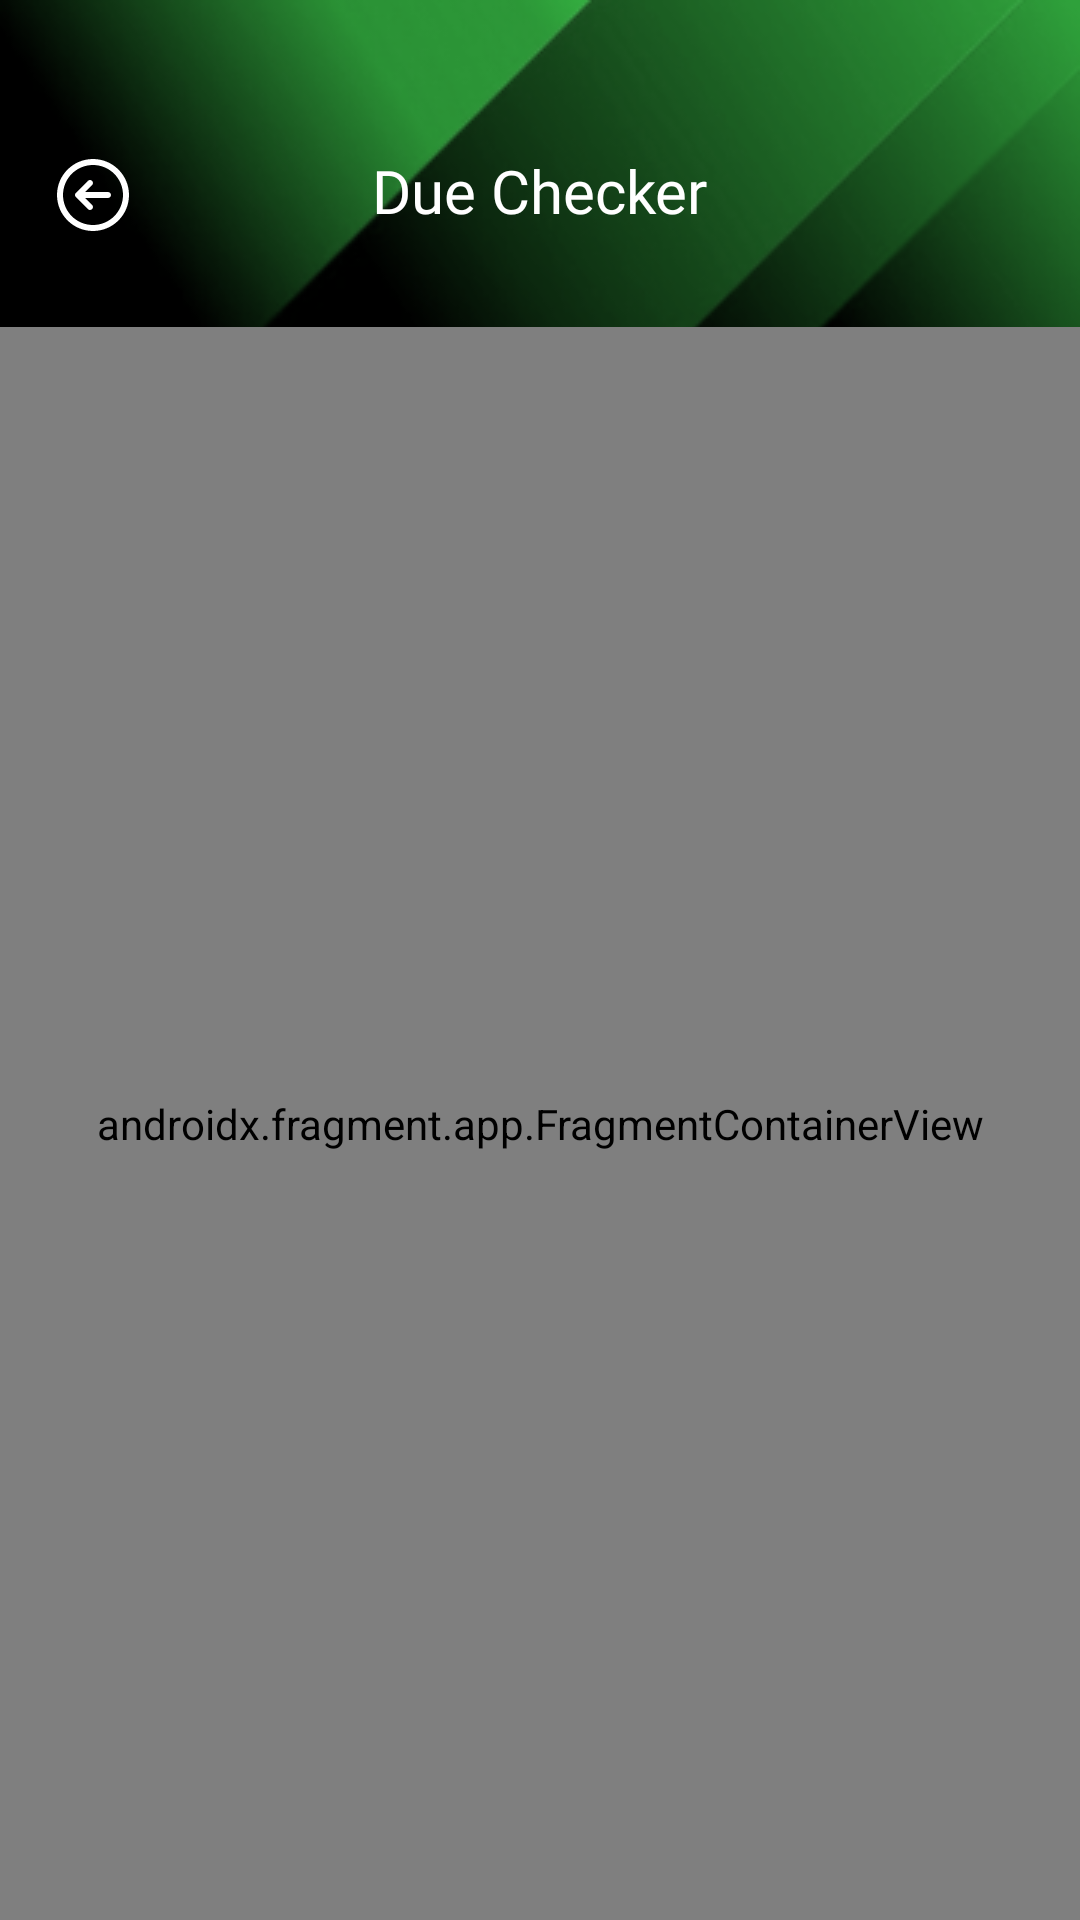

Icons on this 1080x1920 Android screen, each with its box as (x1, y1, x2, y2):
backicon: (57, 159, 129, 231)
